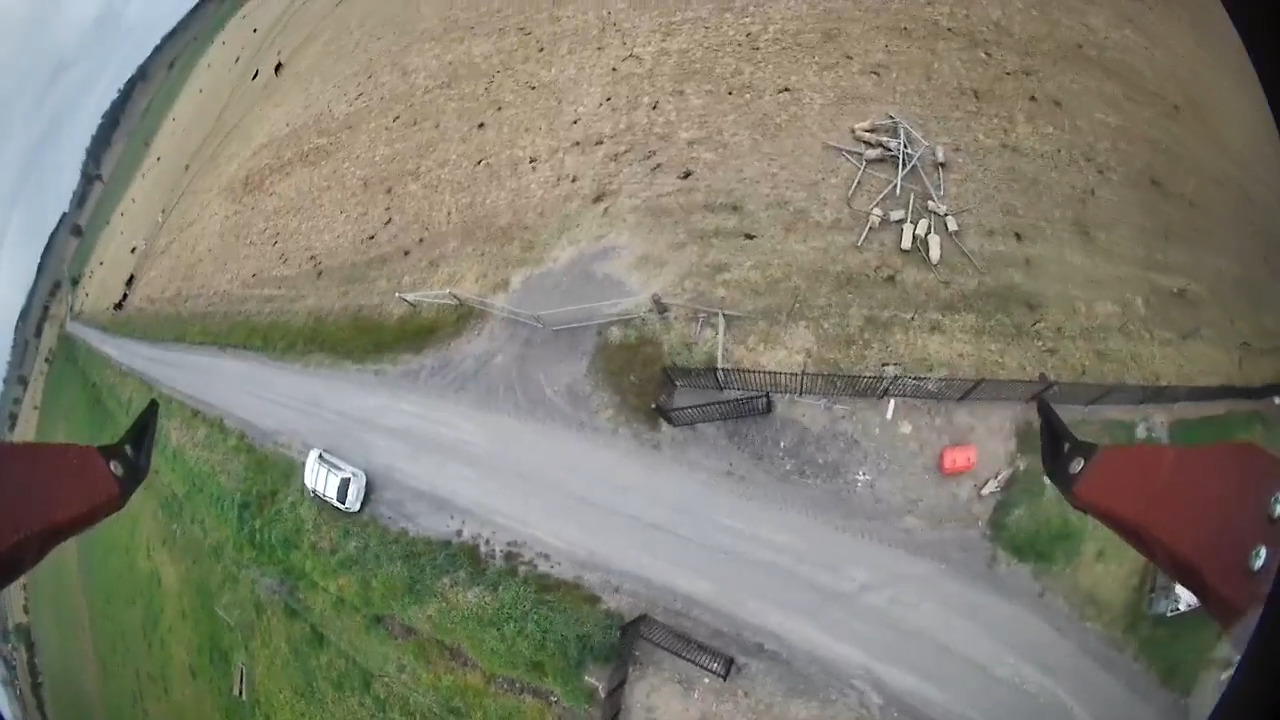Car: (302, 447, 373, 513)
